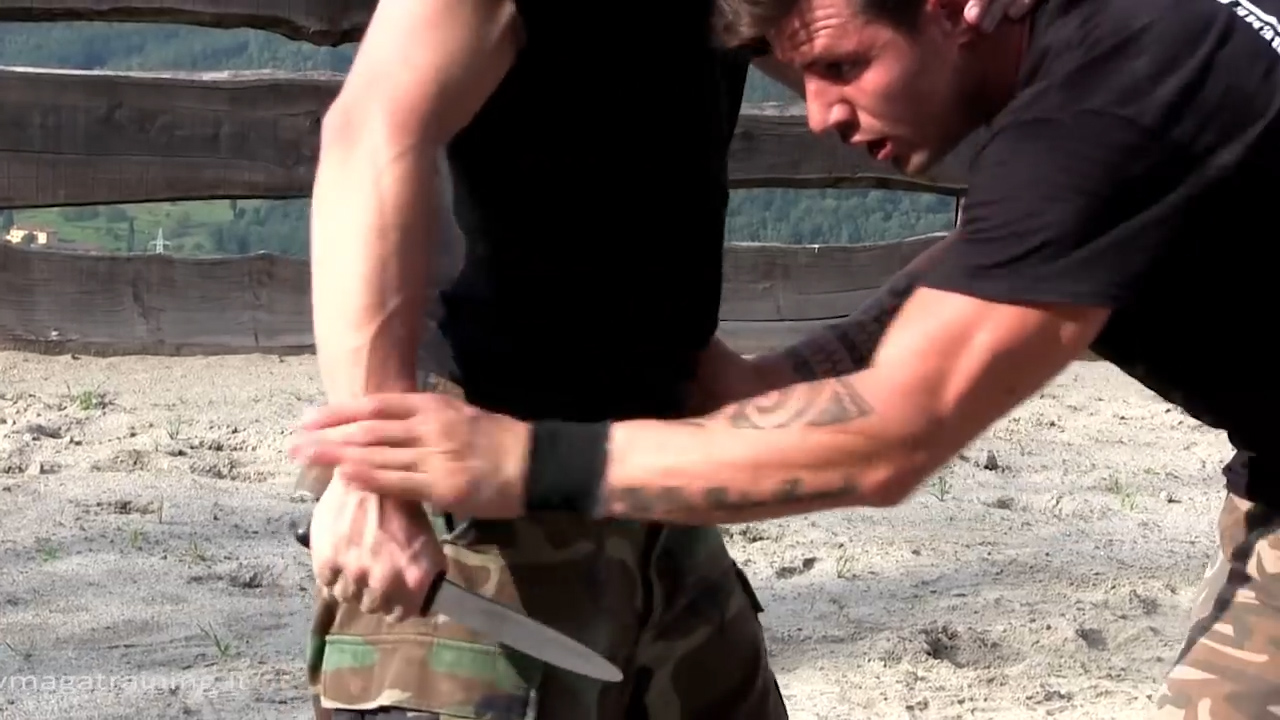knife: (285, 511, 630, 700)
